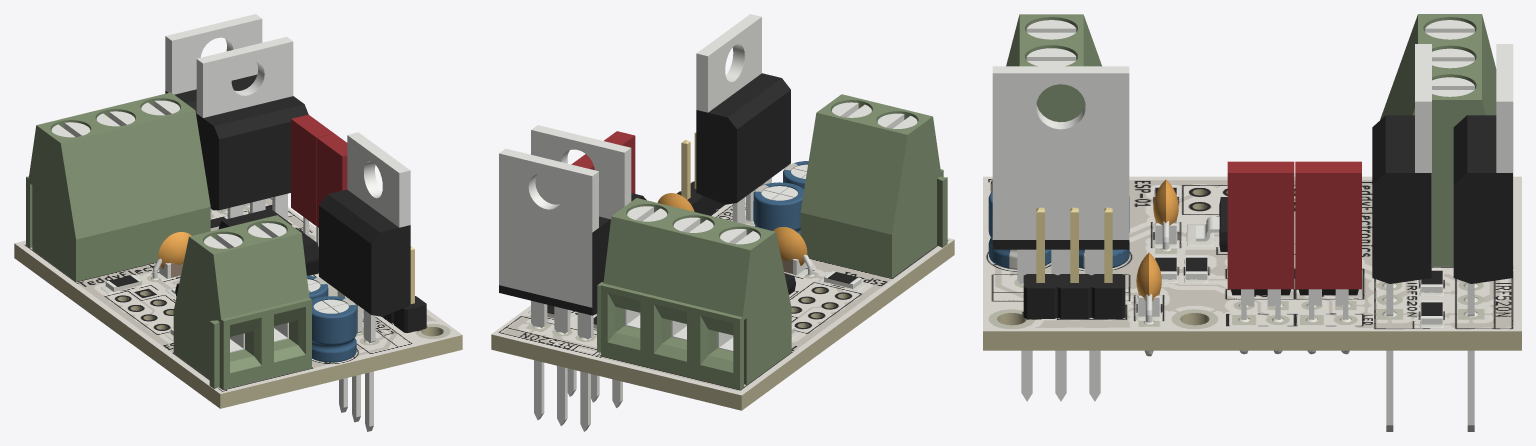
Rendered from 2Lights_V2.glb.
The picture shows the model from 3 angles, left to right: view 1: azimuth 30°, elevation 25°; view 2: azimuth 150°, elevation 25°; view 3: azimuth 270°, elevation 25°; orthographic projection. The views are drawn at different scales.
Parts seen in each view (by area): view 1: TerminalBlock_Phoenix_MKDS-1,5-3-5.08_1x03_P5.08mm_Horizonta, TerminalBlock_Phoenix_MKDS-1,5-2_1x02_P5.00mm_Horizontal, PCB_2Lights_V2, TO-220-3_Vertical.002, TO-220-3_Vertical.001, TO-220-3_Vertical, LED_Rectangular_W5.0mm_H2.0mm, CP_Radial_D5.0mm_P2.50mm.001, LED_Rectangular_W5.0mm_H2.0mm.001, PinHeader_1x03_P2.54mm_Vertical, C_Disc_D4.3mm_W1.9mm_P5.00mm, DIP-4_W7.62mm.001 (+1 smaller); view 2: TerminalBlock_Phoenix_MKDS-1,5-3-5.08_1x03_P5.08mm_Horizonta, TerminalBlock_Phoenix_MKDS-1,5-2_1x02_P5.00mm_Horizontal, TO-220-3_Vertical, PCB_2Lights_V2, TO-220-3_Vertical.001, TO-220-3_Vertical.002, CP_Radial_D5.0mm_P2.50mm, PinHeader_1x03_P2.54mm_Vertical, C_Disc_D4.3mm_W1.9mm_P5.00mm.001, LED_Rectangular_W5.0mm_H2.0mm.001, CP_Radial_D5.0mm_P2.50mm.001, R_1206_3216Metric; view 3: PCB_2Lights_V2, TO-220-3_Vertical.001, TO-220-3_Vertical, TO-220-3_Vertical.002, TerminalBlock_Phoenix_MKDS-1,5-3-5.08_1x03_P5.08mm_Horizonta, LED_Rectangular_W5.0mm_H2.0mm.001, LED_Rectangular_W5.0mm_H2.0mm, PinHeader_1x03_P2.54mm_Vertical, TerminalBlock_Phoenix_MKDS-1,5-2_1x02_P5.00mm_Horizontal, C_Disc_D4.3mm_W1.9mm_P5.00mm.001, C_Disc_D4.3mm_W1.9mm_P5.00mm.002, SOT-223 (+5 smaller).
Boxes of the visible parts, <box> form: TerminalBlock_Phoenix_MKDS-1,5-3-5.08_1x03_P5.08mm_Horizonta: <box>26,92,210,281</box>; TerminalBlock_Phoenix_MKDS-1,5-2_1x02_P5.00mm_Horizontal: <box>173,215,311,389</box>; PCB_2Lights_V2: <box>14,197,462,408</box>; TO-220-3_Vertical.002: <box>196,37,308,220</box>; TO-220-3_Vertical.001: <box>319,132,410,431</box>; TO-220-3_Vertical: <box>165,14,262,213</box>; LED_Rectangular_W5.0mm_H2.0mm: <box>291,114,333,246</box>; CP_Radial_D5.0mm_P2.50mm.001: <box>312,296,356,362</box>; LED_Rectangular_W5.0mm_H2.0mm.001: <box>317,133,347,227</box>; PinHeader_1x03_P2.54mm_Vertical: <box>383,246,426,332</box>; C_Disc_D4.3mm_W1.9mm_P5.00mm: <box>152,232,191,278</box>; DIP-4_W7.62mm.001: <box>295,227,318,275</box>; TerminalBlock_Phoenix_MKDS-1,5-3-5.08_1x03_P5.08mm_Horizonta: <box>597,198,791,389</box>; TerminalBlock_Phoenix_MKDS-1,5-2_1x02_P5.00mm_Horizontal: <box>800,94,947,278</box>; TO-220-3_Vertical: <box>499,148,610,431</box>; PCB_2Lights_V2: <box>491,196,954,410</box>; TO-220-3_Vertical.001: <box>696,14,790,224</box>; TO-220-3_Vertical.002: <box>531,125,646,407</box>; CP_Radial_D5.0mm_P2.50mm: <box>753,182,803,235</box>; PinHeader_1x03_P2.54mm_Vertical: <box>677,132,724,215</box>; C_Disc_D4.3mm_W1.9mm_P5.00mm.001: <box>773,227,812,275</box>; LED_Rectangular_W5.0mm_H2.0mm.001: <box>604,131,635,193</box>; CP_Radial_D5.0mm_P2.50mm.001: <box>783,161,808,189</box>; R_1206_3216Metric: <box>824,271,861,288</box>; PCB_2Lights_V2: <box>983,176,1521,350</box>; TO-220-3_Vertical.001: <box>992,66,1129,401</box>; TO-220-3_Vertical: <box>1453,44,1513,431</box>; TO-220-3_Vertical.002: <box>1372,44,1431,431</box>; TerminalBlock_Phoenix_MKDS-1,5-3-5.08_1x03_P5.08mm_Horizonta: <box>1380,14,1496,266</box>; LED_Rectangular_W5.0mm_H2.0mm.001: <box>1227,161,1294,319</box>; LED_Rectangular_W5.0mm_H2.0mm: <box>1295,161,1361,319</box>; PinHeader_1x03_P2.54mm_Vertical: <box>1023,207,1125,318</box>; TerminalBlock_Phoenix_MKDS-1,5-2_1x02_P5.00mm_Horizontal: <box>1006,14,1101,122</box>; C_Disc_D4.3mm_W1.9mm_P5.00mm.001: <box>1153,179,1178,249</box>; C_Disc_D4.3mm_W1.9mm_P5.00mm.002: <box>1136,252,1161,322</box>; SOT-223: <box>1196,197,1227,251</box>.
Bounding box in the file's own units: 0.0274 × 0.0285 × 0.0404.
15 materials, 2 textured.
